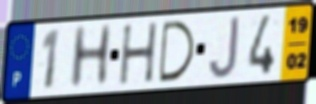1: (37, 27, 62, 92)
4: (246, 13, 277, 78)
D: (158, 19, 198, 85)
H: (67, 22, 115, 92), (118, 20, 160, 88)
J: (207, 14, 241, 81)
